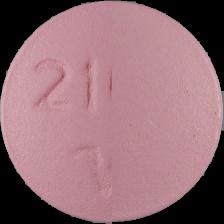0603-2216: (0, 0, 224, 224)
